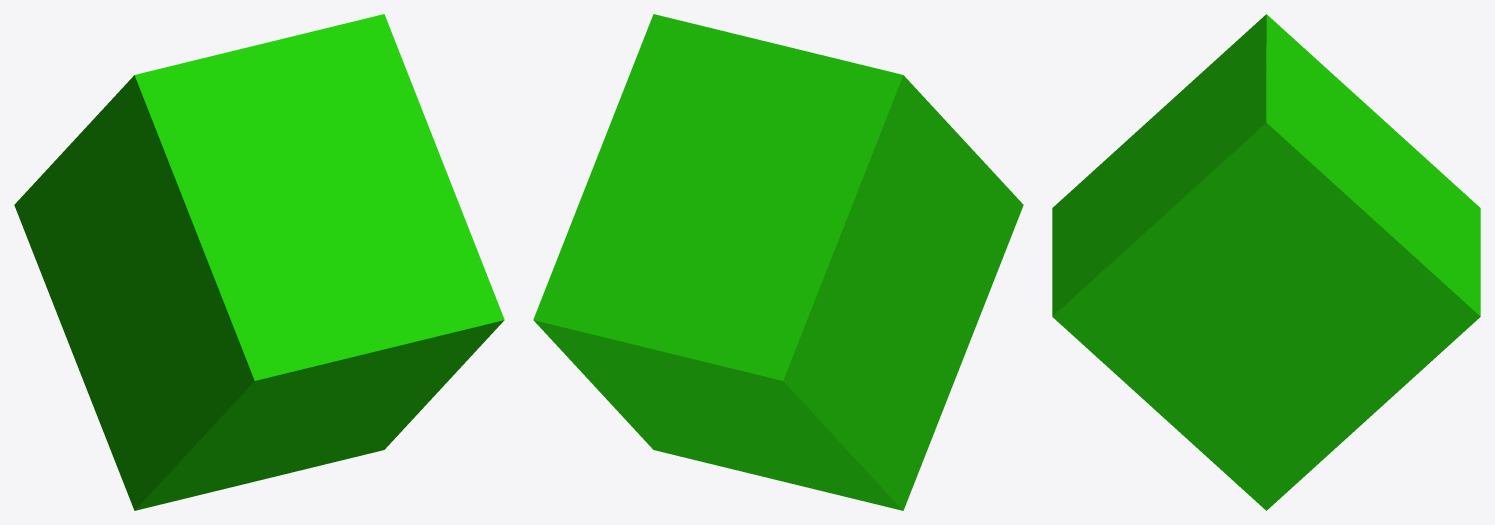
Rendered from belah ketupat.fbx.
The picture shows the model from 3 angles, left to right: view 1: azimuth 30°, elevation 25°; view 2: azimuth 150°, elevation 25°; view 3: azimuth 270°, elevation 25°; orthographic projection. The views are drawn at different scales.
Visible parts, largest first — view 1: Cube; view 2: Cube; view 3: Cube.
Boxes of the visible parts, x1,y1,x2,y2 form: Cube: (14,14,504,510); Cube: (533,14,1023,510); Cube: (1052,14,1480,510).
Size of the model in its own units: 120 by 200 by 200.
